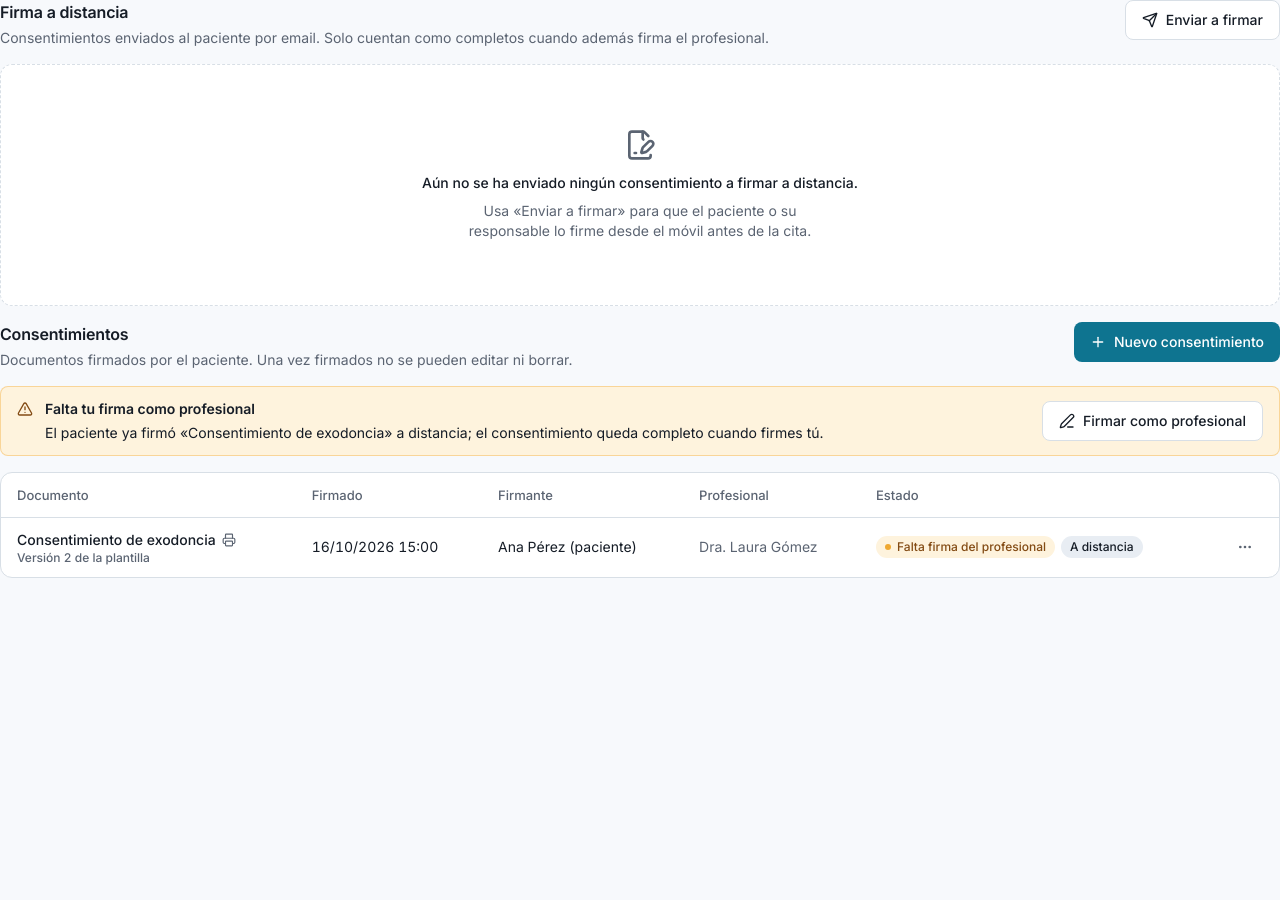
Scenario: PatientConsentsTab › DX-243: el aviso «Falta tu firma» abre la firma del profesional
Check: the table named "Consentimientos firmados" is shown, box [1, 473, 1279, 578]
Click the button "Firmar como profesional" at (1153, 421), box [1042, 401, 1263, 441]
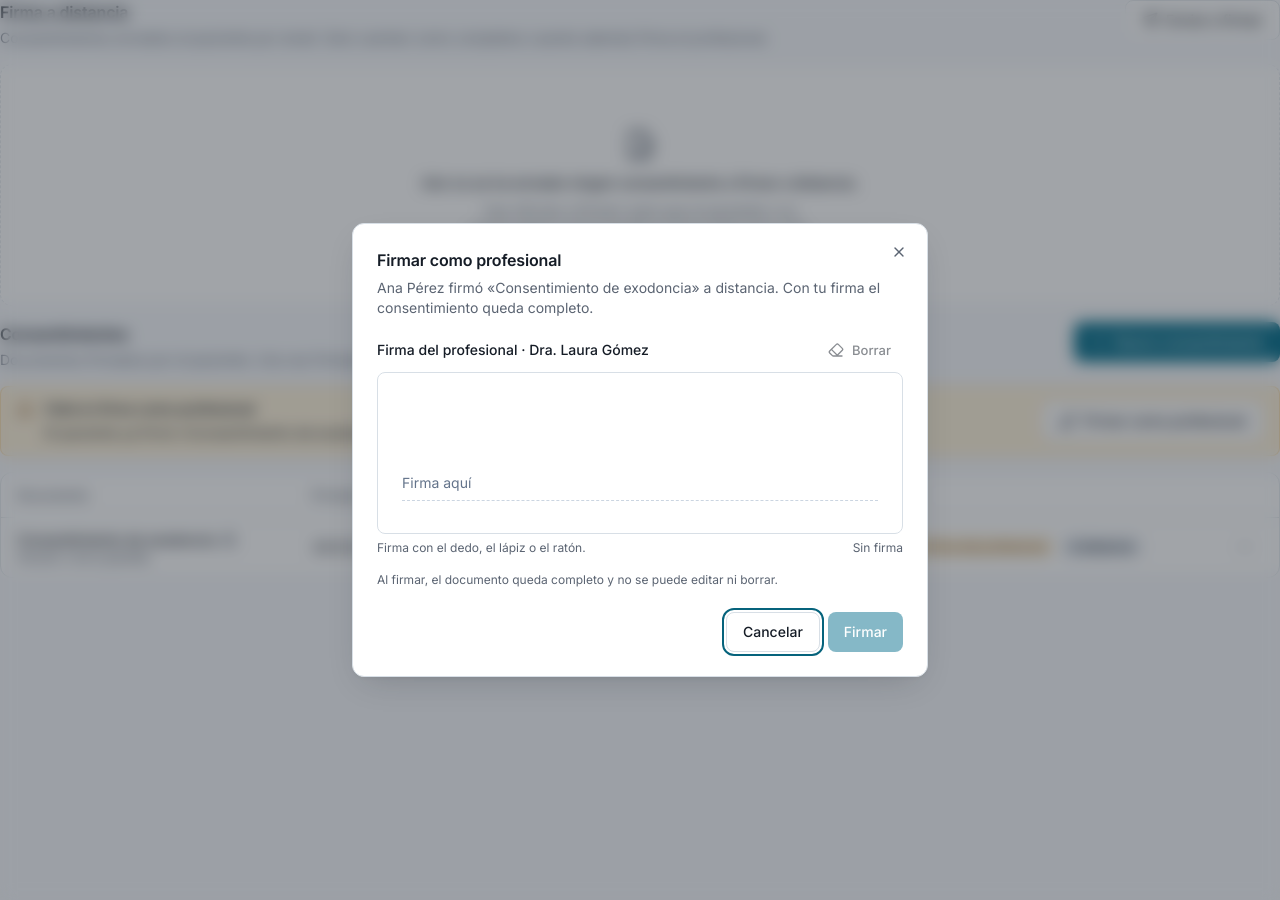
Check: the dialog "Firmar como profesional" is shown, box [352, 223, 928, 677]
